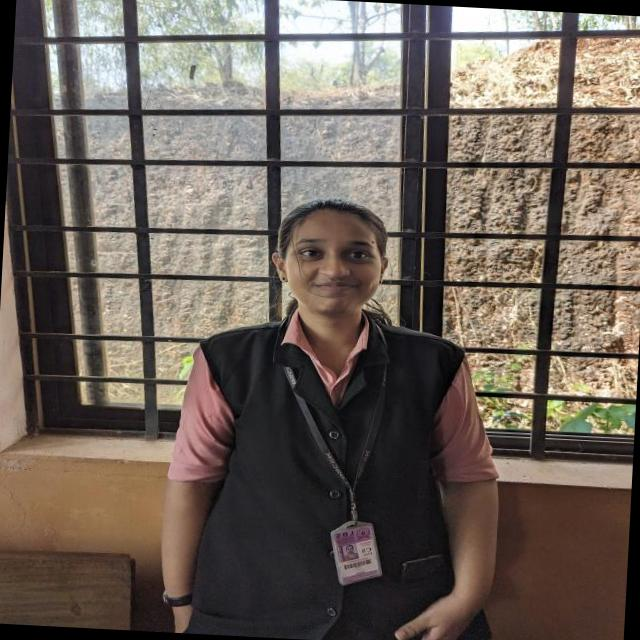id_card: (288, 323, 399, 594)
